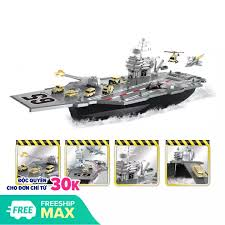tau_muctieu: (19, 48, 200, 117)
